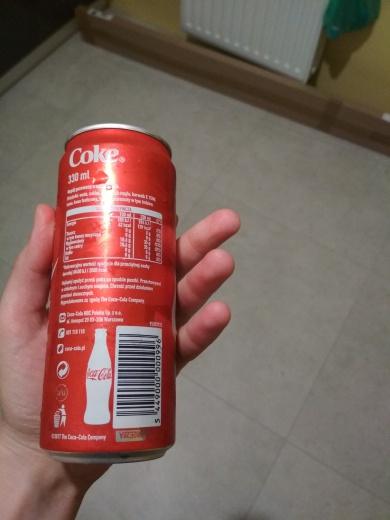cola: (30, 121, 196, 469)
